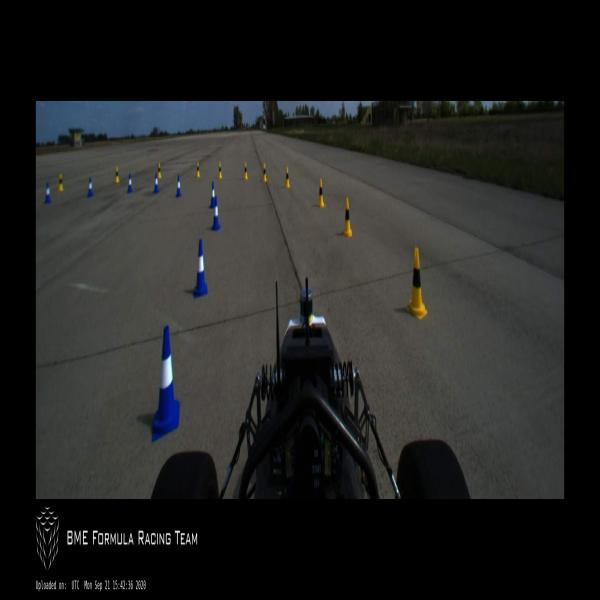blue_cone: (152, 326, 180, 441), (193, 238, 208, 300), (211, 197, 220, 231), (44, 182, 51, 205), (209, 182, 215, 208), (153, 172, 159, 194), (127, 173, 133, 193), (88, 178, 94, 198), (176, 174, 180, 198)
yellow_cone: (407, 248, 427, 320), (343, 198, 352, 238), (317, 179, 324, 208), (284, 167, 290, 188), (58, 173, 64, 192), (157, 161, 162, 179), (262, 162, 266, 182), (218, 161, 222, 179), (244, 161, 248, 179), (115, 167, 119, 183), (196, 163, 200, 177)
